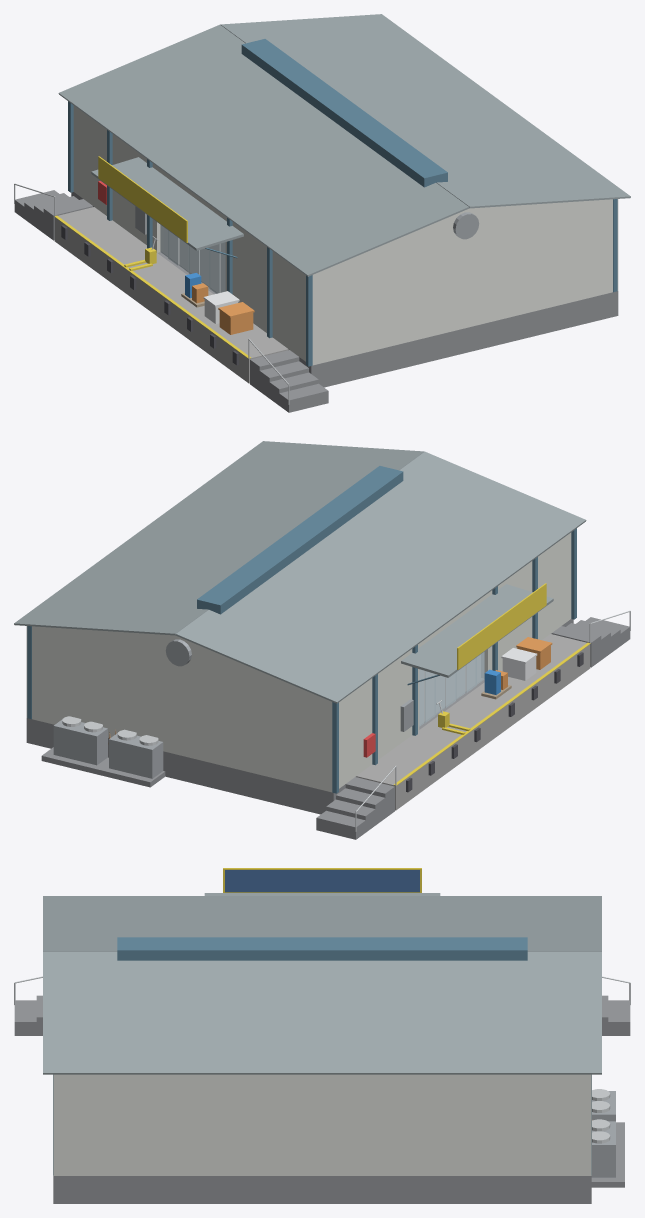
Rendered from building_fishery_cold_storage_01.glb.
3 views of the same model, one above another, from view 1: azimuth 30°, elevation 25°; view 2: azimuth 150°, elevation 25°; view 3: azimuth 270°, elevation 25° (orthographic). The views are drawn at different scales.
Visible parts, largest first — view 1: Warehouse_Corrugated_Roof, Warehouse_Wall_North, Warehouse_Loading_Dock_Platform, Warehouse_Foundation_Plinth, Warehouse_Roof_Ridge_Ventilator, Warehouse_Wall_West_NorthWing, Warehouse_Wall_West_SouthWing, Warehouse_Loading_Canopy, Warehouse_Gable_North, Warehouse_Signboard_Border, Warehouse_Interior_Floor_Mesh, Warehouse_Stairs_North_Step_0 (+8 smaller); view 2: Warehouse_Corrugated_Roof, Warehouse_Wall_South, Warehouse_Loading_Dock_Platform, Warehouse_Roof_Ridge_Ventilator, Warehouse_Wall_West_SouthWing, Warehouse_Foundation_Plinth, Warehouse_Wall_West_NorthWing, Warehouse_Loading_Canopy, Warehouse_Gable_South, Warehouse_Signboard_Border, Warehouse_Interior_Floor_Mesh, Warehouse_Chiller_Unit_0 (+11 smaller); view 3: Warehouse_Corrugated_Roof, Warehouse_Wall_East, Warehouse_Foundation_Plinth, Warehouse_Roof_Ridge_Ventilator, Warehouse_Fishery_Signboard, Warehouse_Chiller_Unit_1, Warehouse_Wall_North, Warehouse_Chiller_Equipment_Pad, Warehouse_Wall_South, Warehouse_Stairs_North_Step_0, Warehouse_Stairs_South_Step_0, Warehouse_Loading_Canopy (+1 smaller).
Part boxes in pixels (box(x1,y1,x2,y2)): Warehouse_Corrugated_Roof: box(58, 14, 630, 276); Warehouse_Wall_North: box(312, 199, 611, 365); Warehouse_Loading_Dock_Platform: box(54, 207, 288, 383); Warehouse_Foundation_Plinth: box(71, 192, 618, 387); Warehouse_Roof_Ridge_Ventilator: box(241, 39, 447, 187); Warehouse_Wall_West_NorthWing: box(225, 217, 318, 364); Warehouse_Wall_West_SouthWing: box(74, 107, 163, 252); Warehouse_Loading_Canopy: box(91, 157, 243, 250); Warehouse_Gable_North: box(340, 200, 599, 263); Warehouse_Signboard_Border: box(98, 156, 187, 242); Warehouse_Interior_Floor_Mesh: box(162, 228, 225, 292); Warehouse_Stairs_North_Step_0: box(279, 383, 328, 412); Warehouse_Corrugated_Roof: box(14, 441, 586, 703); Warehouse_Wall_South: box(33, 626, 332, 792); Warehouse_Loading_Dock_Platform: box(356, 634, 590, 810); Warehouse_Roof_Ridge_Ventilator: box(197, 466, 403, 614); Warehouse_Wall_West_SouthWing: box(326, 644, 419, 791); Warehouse_Foundation_Plinth: box(26, 619, 573, 814); Warehouse_Wall_West_NorthWing: box(481, 532, 571, 678); Warehouse_Loading_Canopy: box(401, 584, 553, 677); Warehouse_Gable_South: box(45, 627, 304, 690); Warehouse_Signboard_Border: box(457, 583, 546, 669); Warehouse_Interior_Floor_Mesh: box(419, 655, 482, 725); Warehouse_Chiller_Unit_0: box(109, 733, 163, 778); Warehouse_Corrugated_Roof: box(43, 896, 601, 1074); Warehouse_Wall_East: box(53, 1074, 591, 1175); Warehouse_Foundation_Plinth: box(53, 1176, 591, 1203); Warehouse_Roof_Ridge_Ventilator: box(117, 937, 527, 960); Warehouse_Fishery_Signboard: box(225, 870, 419, 892); Warehouse_Chiller_Unit_1: box(591, 1121, 615, 1177); Warehouse_Wall_North: box(53, 1074, 62, 1175); Warehouse_Chiller_Equipment_Pad: box(591, 1122, 624, 1187); Warehouse_Wall_South: box(582, 1074, 591, 1175); Warehouse_Stairs_North_Step_0: box(14, 1000, 36, 1035); Warehouse_Stairs_South_Step_0: box(608, 1000, 630, 1035); Warehouse_Loading_Canopy: box(204, 893, 440, 895).
Size of what is drawn, in the model's own units: 18.38 by 7.57 by 24.06.
